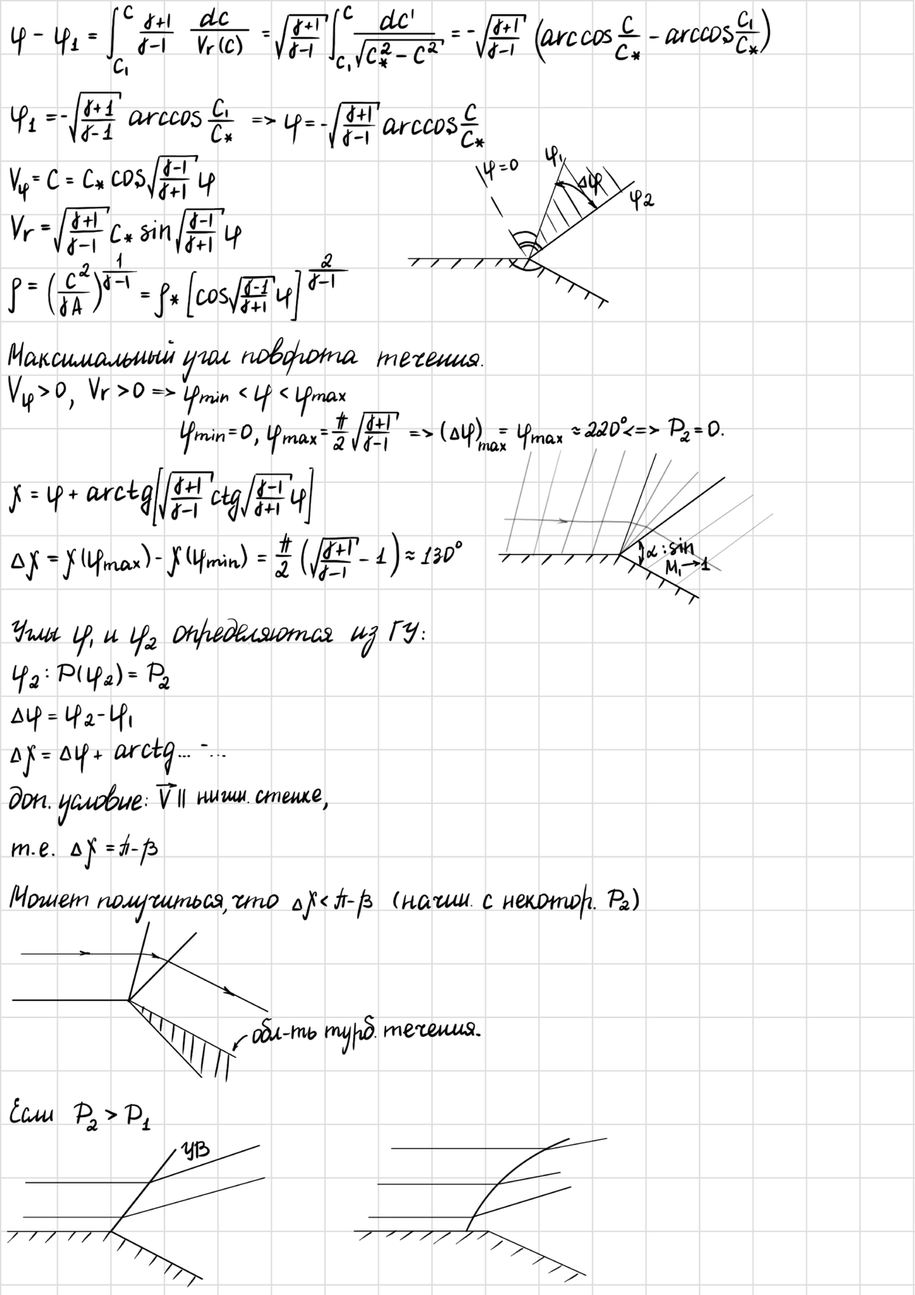formula: (1, 2, 782, 80), (2, 81, 494, 147), (9, 531, 465, 597), (0, 251, 362, 329), (162, 411, 740, 456), (3, 466, 324, 526), (4, 372, 352, 415), (2, 157, 244, 205), (4, 209, 249, 254), (390, 883, 644, 924), (9, 738, 240, 776), (8, 657, 180, 697), (10, 701, 148, 735), (69, 832, 169, 873), (290, 883, 377, 921), (156, 781, 191, 818), (129, 621, 164, 655), (67, 621, 100, 654)
picture: (6, 921, 487, 1086), (355, 1124, 616, 1289), (403, 147, 659, 311), (494, 458, 774, 606), (4, 1136, 279, 1285), (68, 1098, 164, 1136)
text: (4, 334, 489, 370), (169, 613, 432, 653), (3, 882, 284, 918), (3, 782, 155, 822), (193, 783, 333, 823), (8, 1094, 59, 1130), (11, 614, 63, 647), (7, 831, 61, 859), (103, 624, 125, 647)
